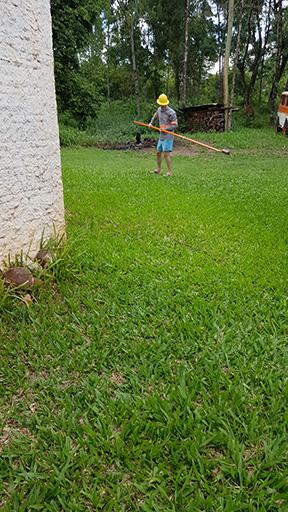Vara_Manobra: (133, 120, 221, 152)
